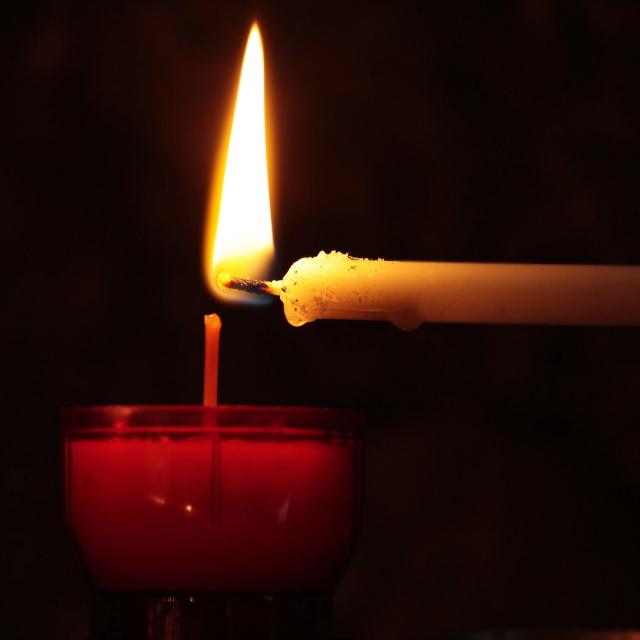Fire_Save: (201, 18, 639, 331), (201, 19, 278, 303)
